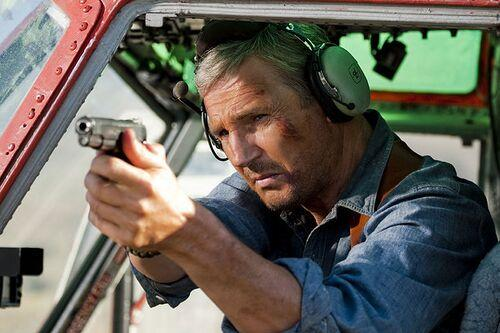Gun: (73, 115, 147, 167)
